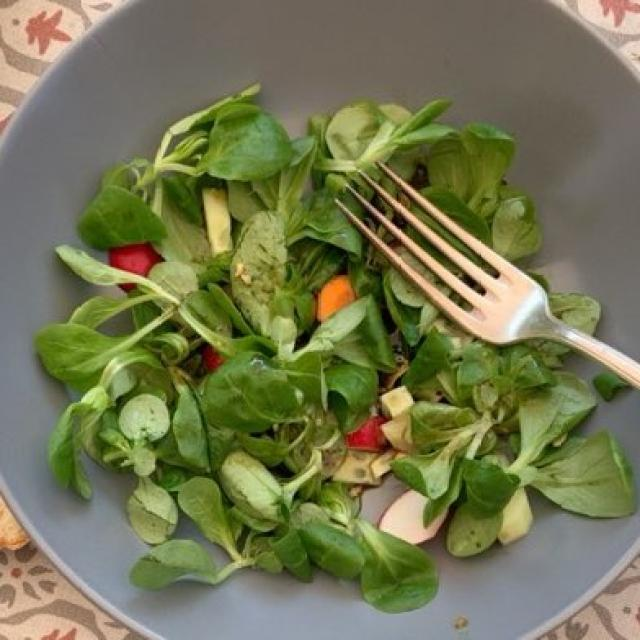Green Salad: (61, 106, 542, 550)
